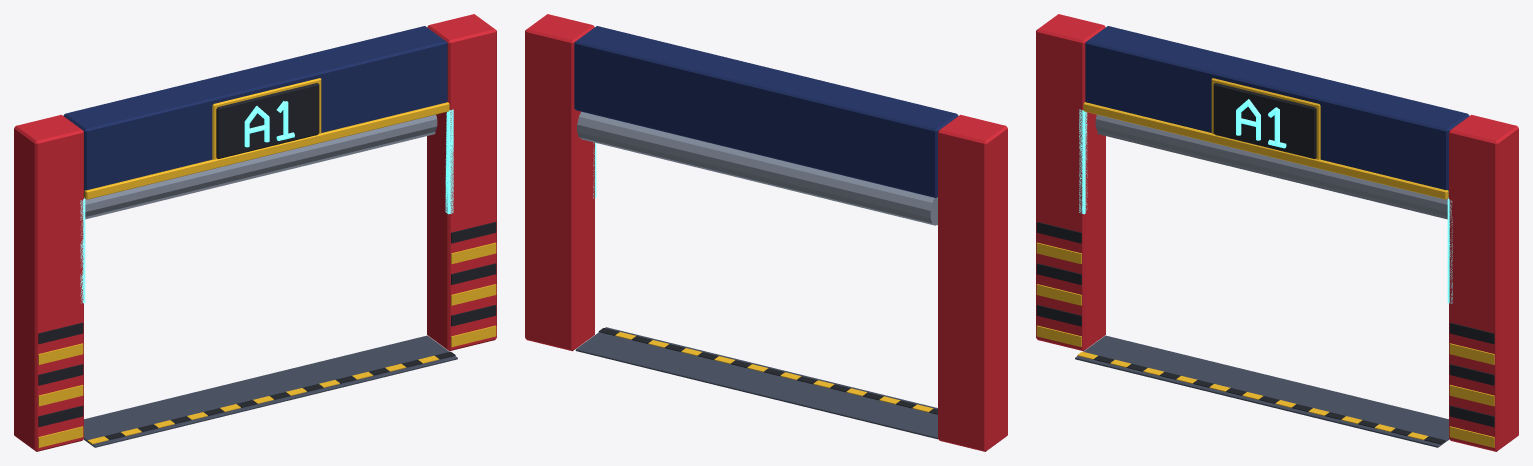
Rendered from GarageFront_A1.fbx.
3 views of the same model, side by side, from view 1: azimuth 30°, elevation 25°; view 2: azimuth 150°, elevation 25°; view 3: azimuth 330°, elevation 25° (orthographic).
Parts seen in each view (by area): view 1: GarageFront_A1, Neon_Cyan; view 2: GarageFront_A1; view 3: GarageFront_A1, Neon_Cyan.
Part boxes in pixels (left/top/right/bottom): GarageFront_A1: left=14, top=14, right=496, bottom=451; Neon_Cyan: left=80, top=101, right=453, bottom=303; GarageFront_A1: left=525, top=14, right=1007, bottom=451; GarageFront_A1: left=1036, top=14, right=1518, bottom=451; Neon_Cyan: left=1079, top=99, right=1452, bottom=303.
Bounding box in the file's own units: 28 × 18 × 3.53.
2 materials, 1 textured.
